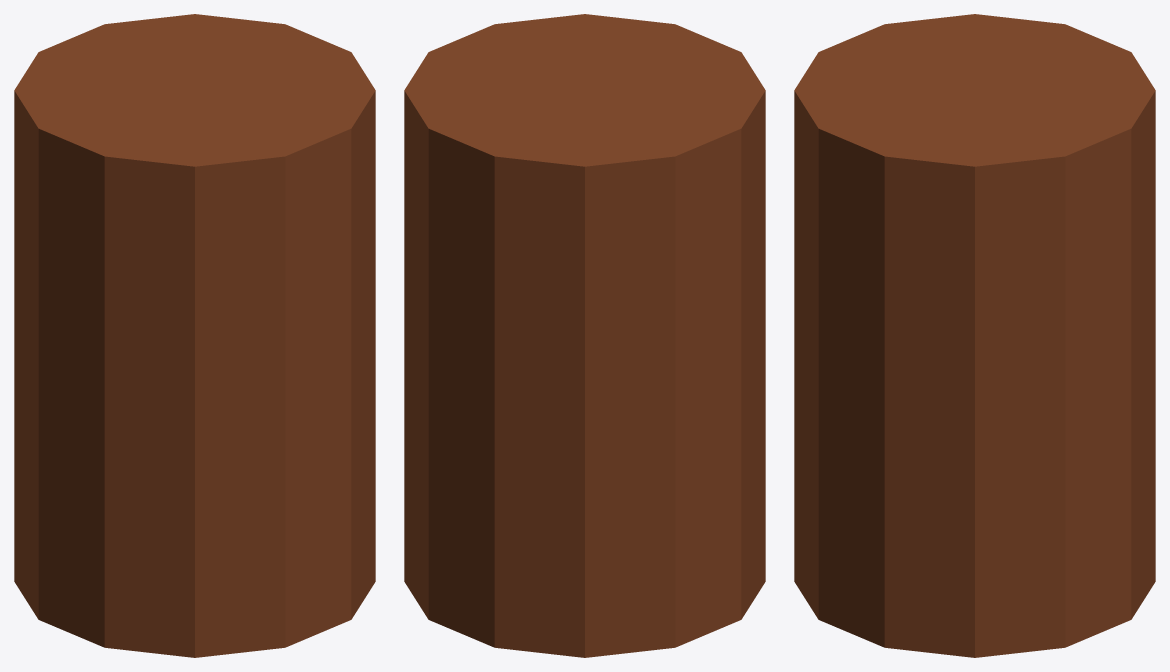
Rendered from rusted_barrel.glb.
3 views of the same model, side by side, from view 1: azimuth 30°, elevation 25°; view 2: azimuth 150°, elevation 25°; view 3: azimuth 270°, elevation 25° (orthographic).
Visible parts, largest first — view 1: RustedBarrel; view 2: RustedBarrel; view 3: RustedBarrel.
Boxes of the visible parts, box(x1,y1,x2,y2) form: RustedBarrel: box(14, 14, 375, 657); RustedBarrel: box(404, 14, 765, 657); RustedBarrel: box(794, 14, 1155, 657).
Bounding box in the file's own units: 0.6 × 0.9 × 0.6.
